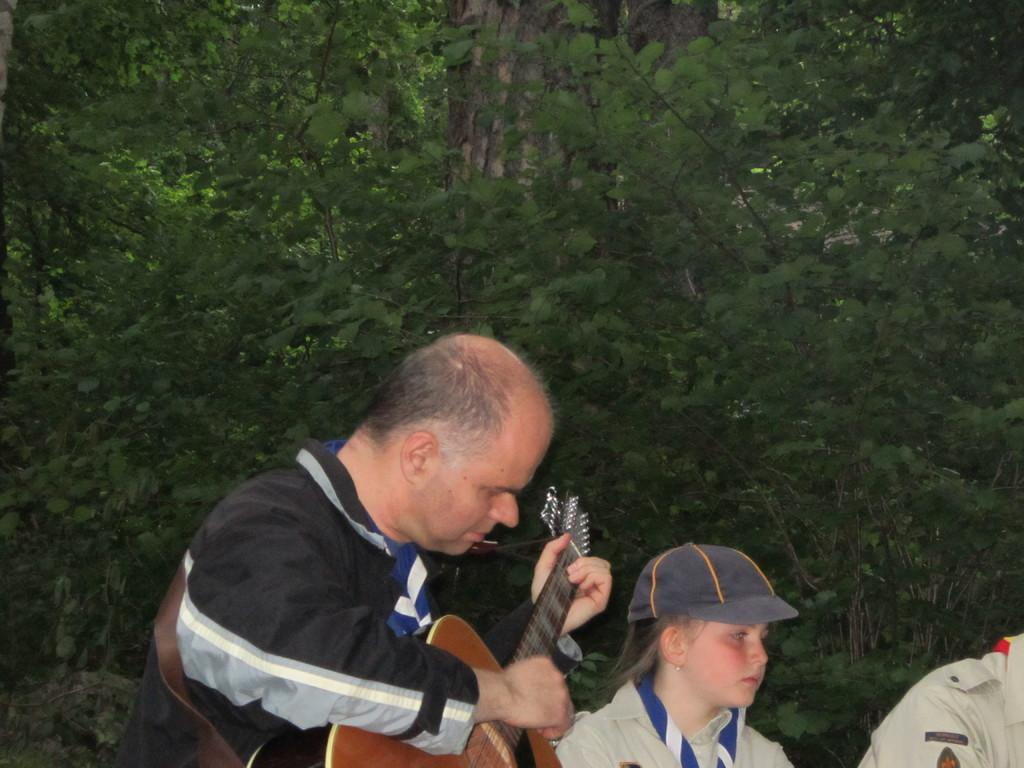Hat: (628, 542, 800, 622)
